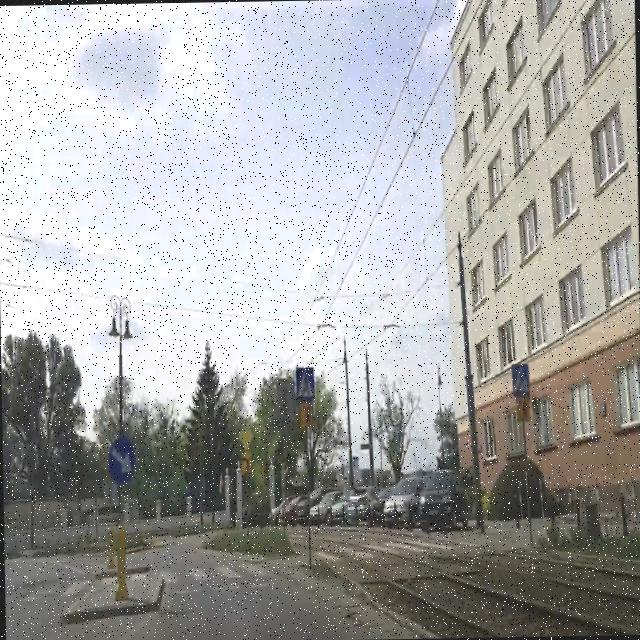Droga z pierwszenstwem: (238, 421, 252, 448)
Przejscie dla pieszych: (295, 366, 315, 402), (510, 362, 530, 396)
